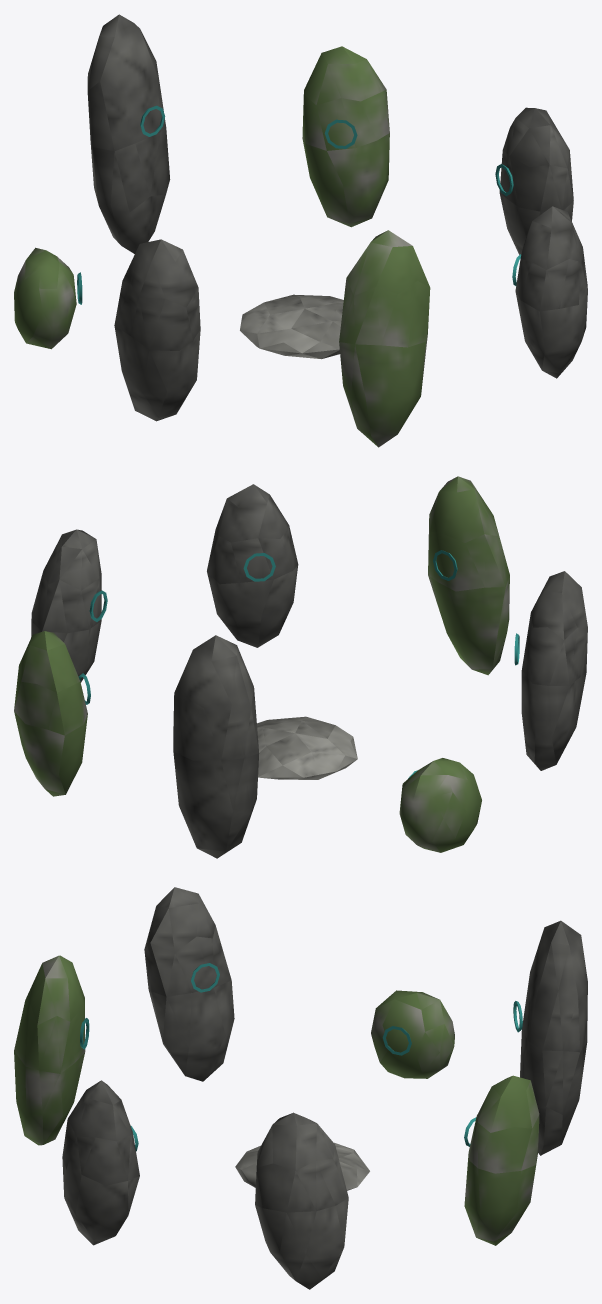
The model's file is SM_Landmark_StandingStones.fbx.
3 renders of one model, top to bottom at view 1: azimuth 30°, elevation 25°; view 2: azimuth 150°, elevation 25°; view 3: azimuth 270°, elevation 25°, orthographic. The views are drawn at different scales.
Visible parts, largest first — view 1: SM_Landmark_StandingStones; view 2: SM_Landmark_StandingStones; view 3: SM_Landmark_StandingStones.
Boxes of the visible parts, x1,y1,x2,y2 form: SM_Landmark_StandingStones: (14, 14, 587, 447); SM_Landmark_StandingStones: (14, 476, 587, 858); SM_Landmark_StandingStones: (14, 887, 587, 1289).
Bounding box in the file's own units: 17.26 × 7.9 × 17.79.
1 material, 1 textured.
